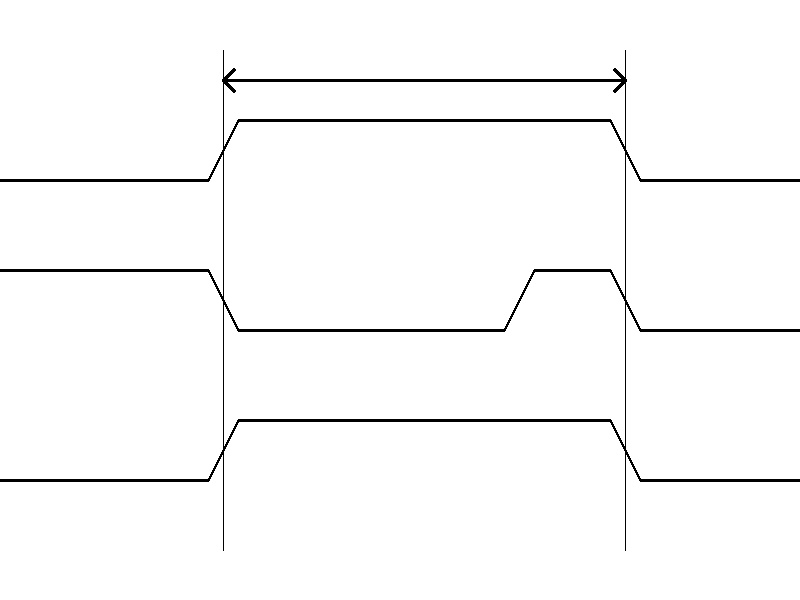double_arrow: (223, 65, 625, 95)
